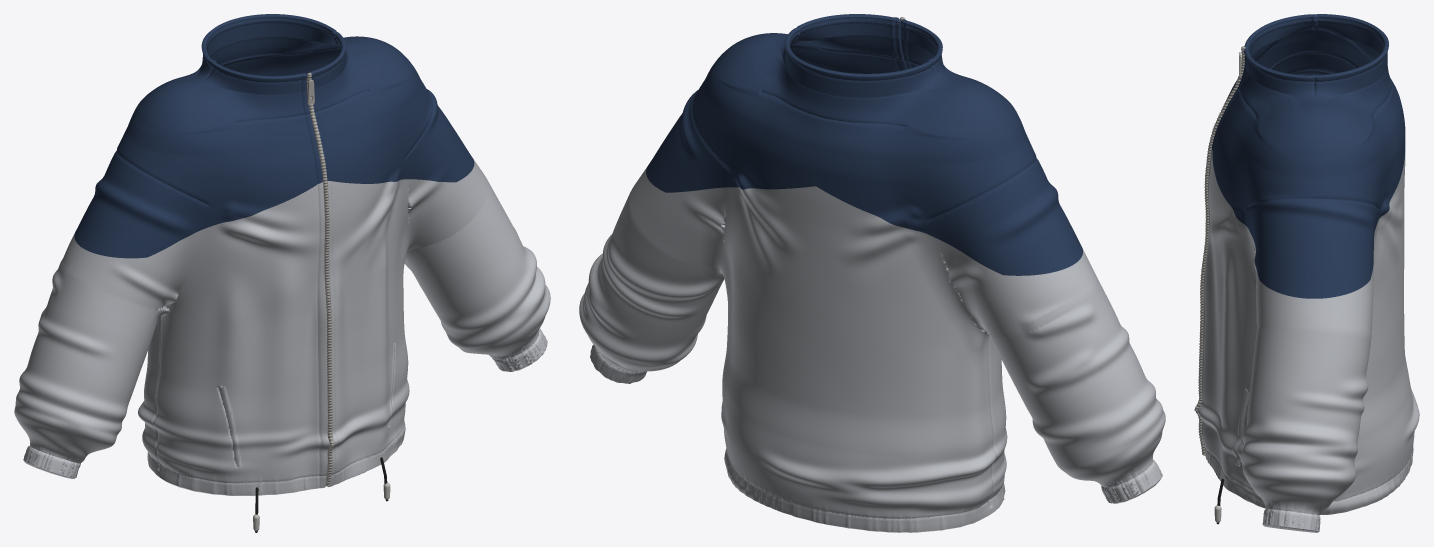
Rendered from 07_cortavientos.glb.
The picture shows the model from 3 angles, left to right: view 1: azimuth 30°, elevation 25°; view 2: azimuth 150°, elevation 25°; view 3: azimuth 270°, elevation 25°; orthographic projection. The views are drawn at different scales.
Parts seen in each view (by area): view 1: body, secondary, zipper; view 2: body, secondary; view 3: body, secondary, zipper.
Part boxes in pixels (x1,y1,x2,y2): body: (14,159,550,495); secondary: (74,14,474,258); zipper: (306,72,334,486); body: (579,167,1165,532); secondary: (646,14,1082,275); body: (1197,148,1419,532); secondary: (1212,14,1405,298); zipper: (1194,46,1245,455).
Size of the model in its own units: 1.02 by 0.8174 by 0.3713.
